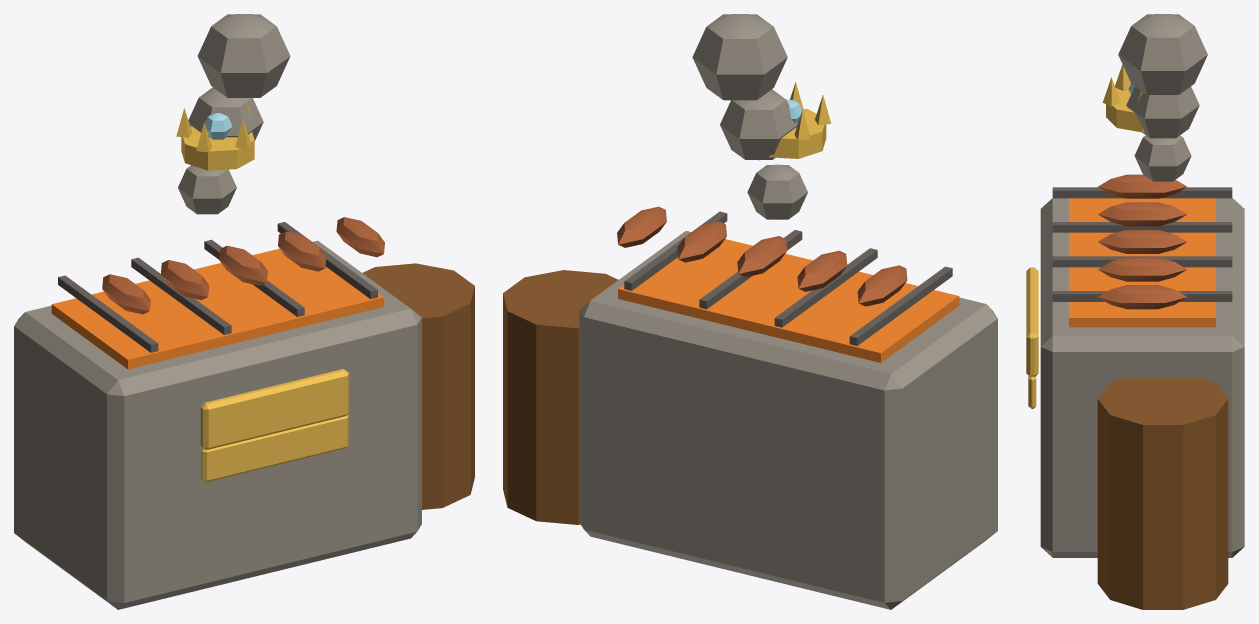
Rendered from PR_Station_Balik_T3.fbx.
The picture shows the model from 3 angles, left to right: view 1: azimuth 30°, elevation 25°; view 2: azimuth 150°, elevation 25°; view 3: azimuth 270°, elevation 25°; orthographic projection. The views are drawn at different scales.
Parts seen in each view (by area): view 1: PR_Station_Balik_T3; view 2: PR_Station_Balik_T3; view 3: PR_Station_Balik_T3.
Boxes of the visible parts, x1=… form: PR_Station_Balik_T3: x1=14, y1=14, x2=474, y2=609; PR_Station_Balik_T3: x1=503, y1=14, x2=997, y2=609; PR_Station_Balik_T3: x1=1026, y1=14, x2=1244, y2=609.
Bounding box in the file's own units: 1.13 × 1.33 × 0.535.
Materials: 1 (1 with a texture image).
